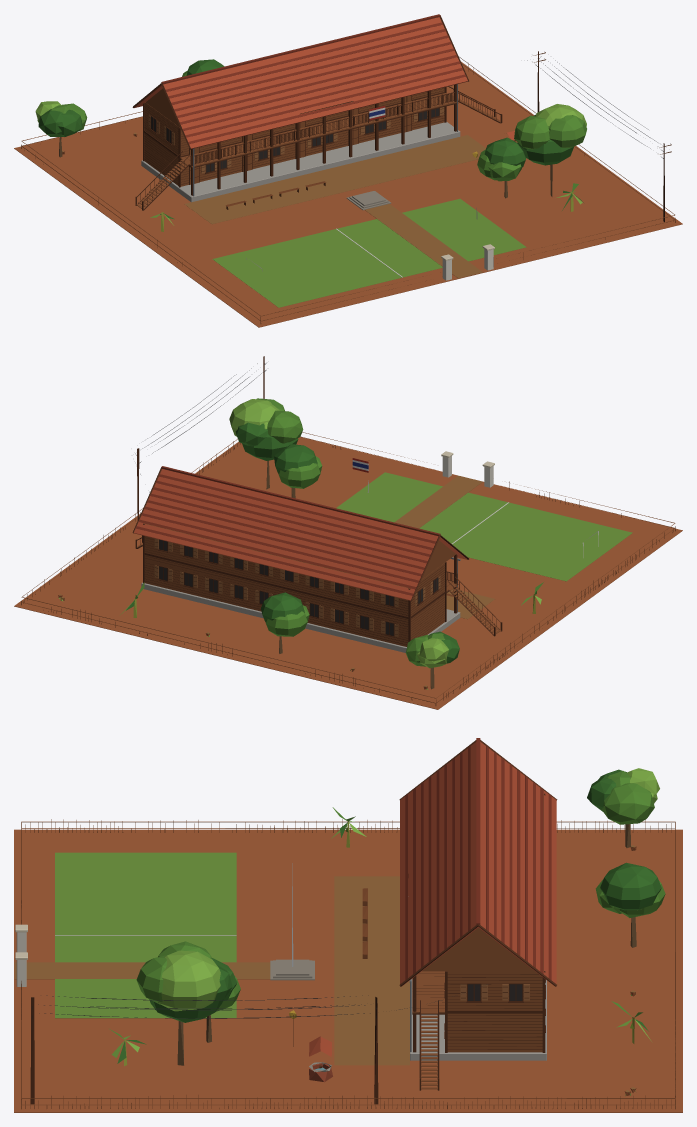
Rendered from school.glb.
3 views of the same model, one above another, from view 1: azimuth 30°, elevation 25°; view 2: azimuth 150°, elevation 25°; view 3: azimuth 270°, elevation 25° (orthographic). The views are drawn at different scales.
Visible parts, largest first — view 1: body, windows; view 2: body, windows; view 3: body.
Part boxes in pixels (x1,y1,x2,y2): body: (14,14,682,327); windows: (151,108,439,172); body: (14,356,682,709); windows: (159,539,438,635); body: (14,738,682,1112).
Size of the model in its own units: 47.9 by 11.36 by 47.9.
